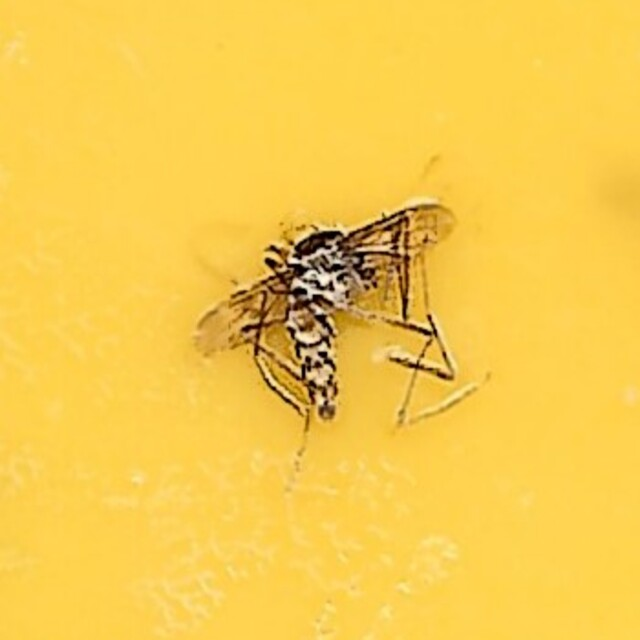Nematocera: (183, 204, 457, 436)
